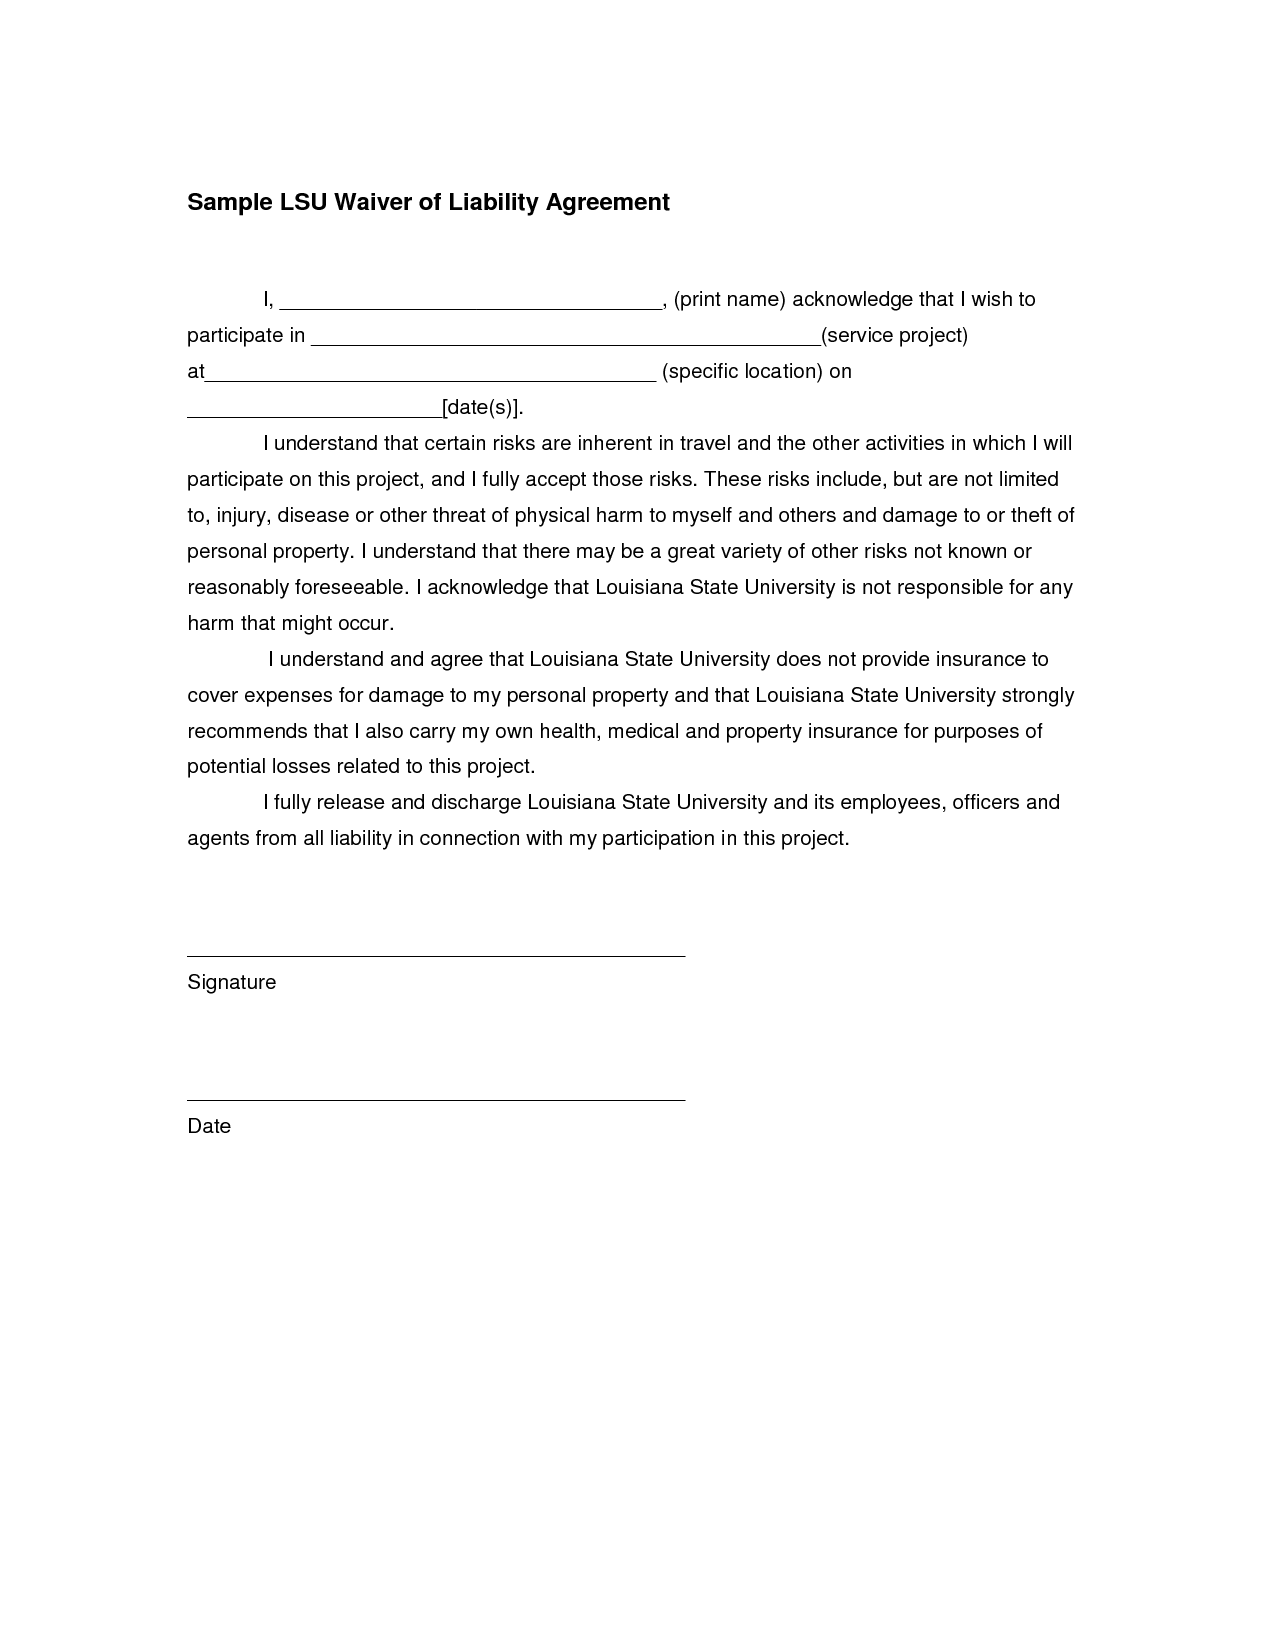textline: (181, 1063, 692, 1109), (177, 925, 692, 967), (204, 354, 664, 392), (307, 317, 826, 350), (271, 279, 670, 316), (175, 388, 455, 422)
